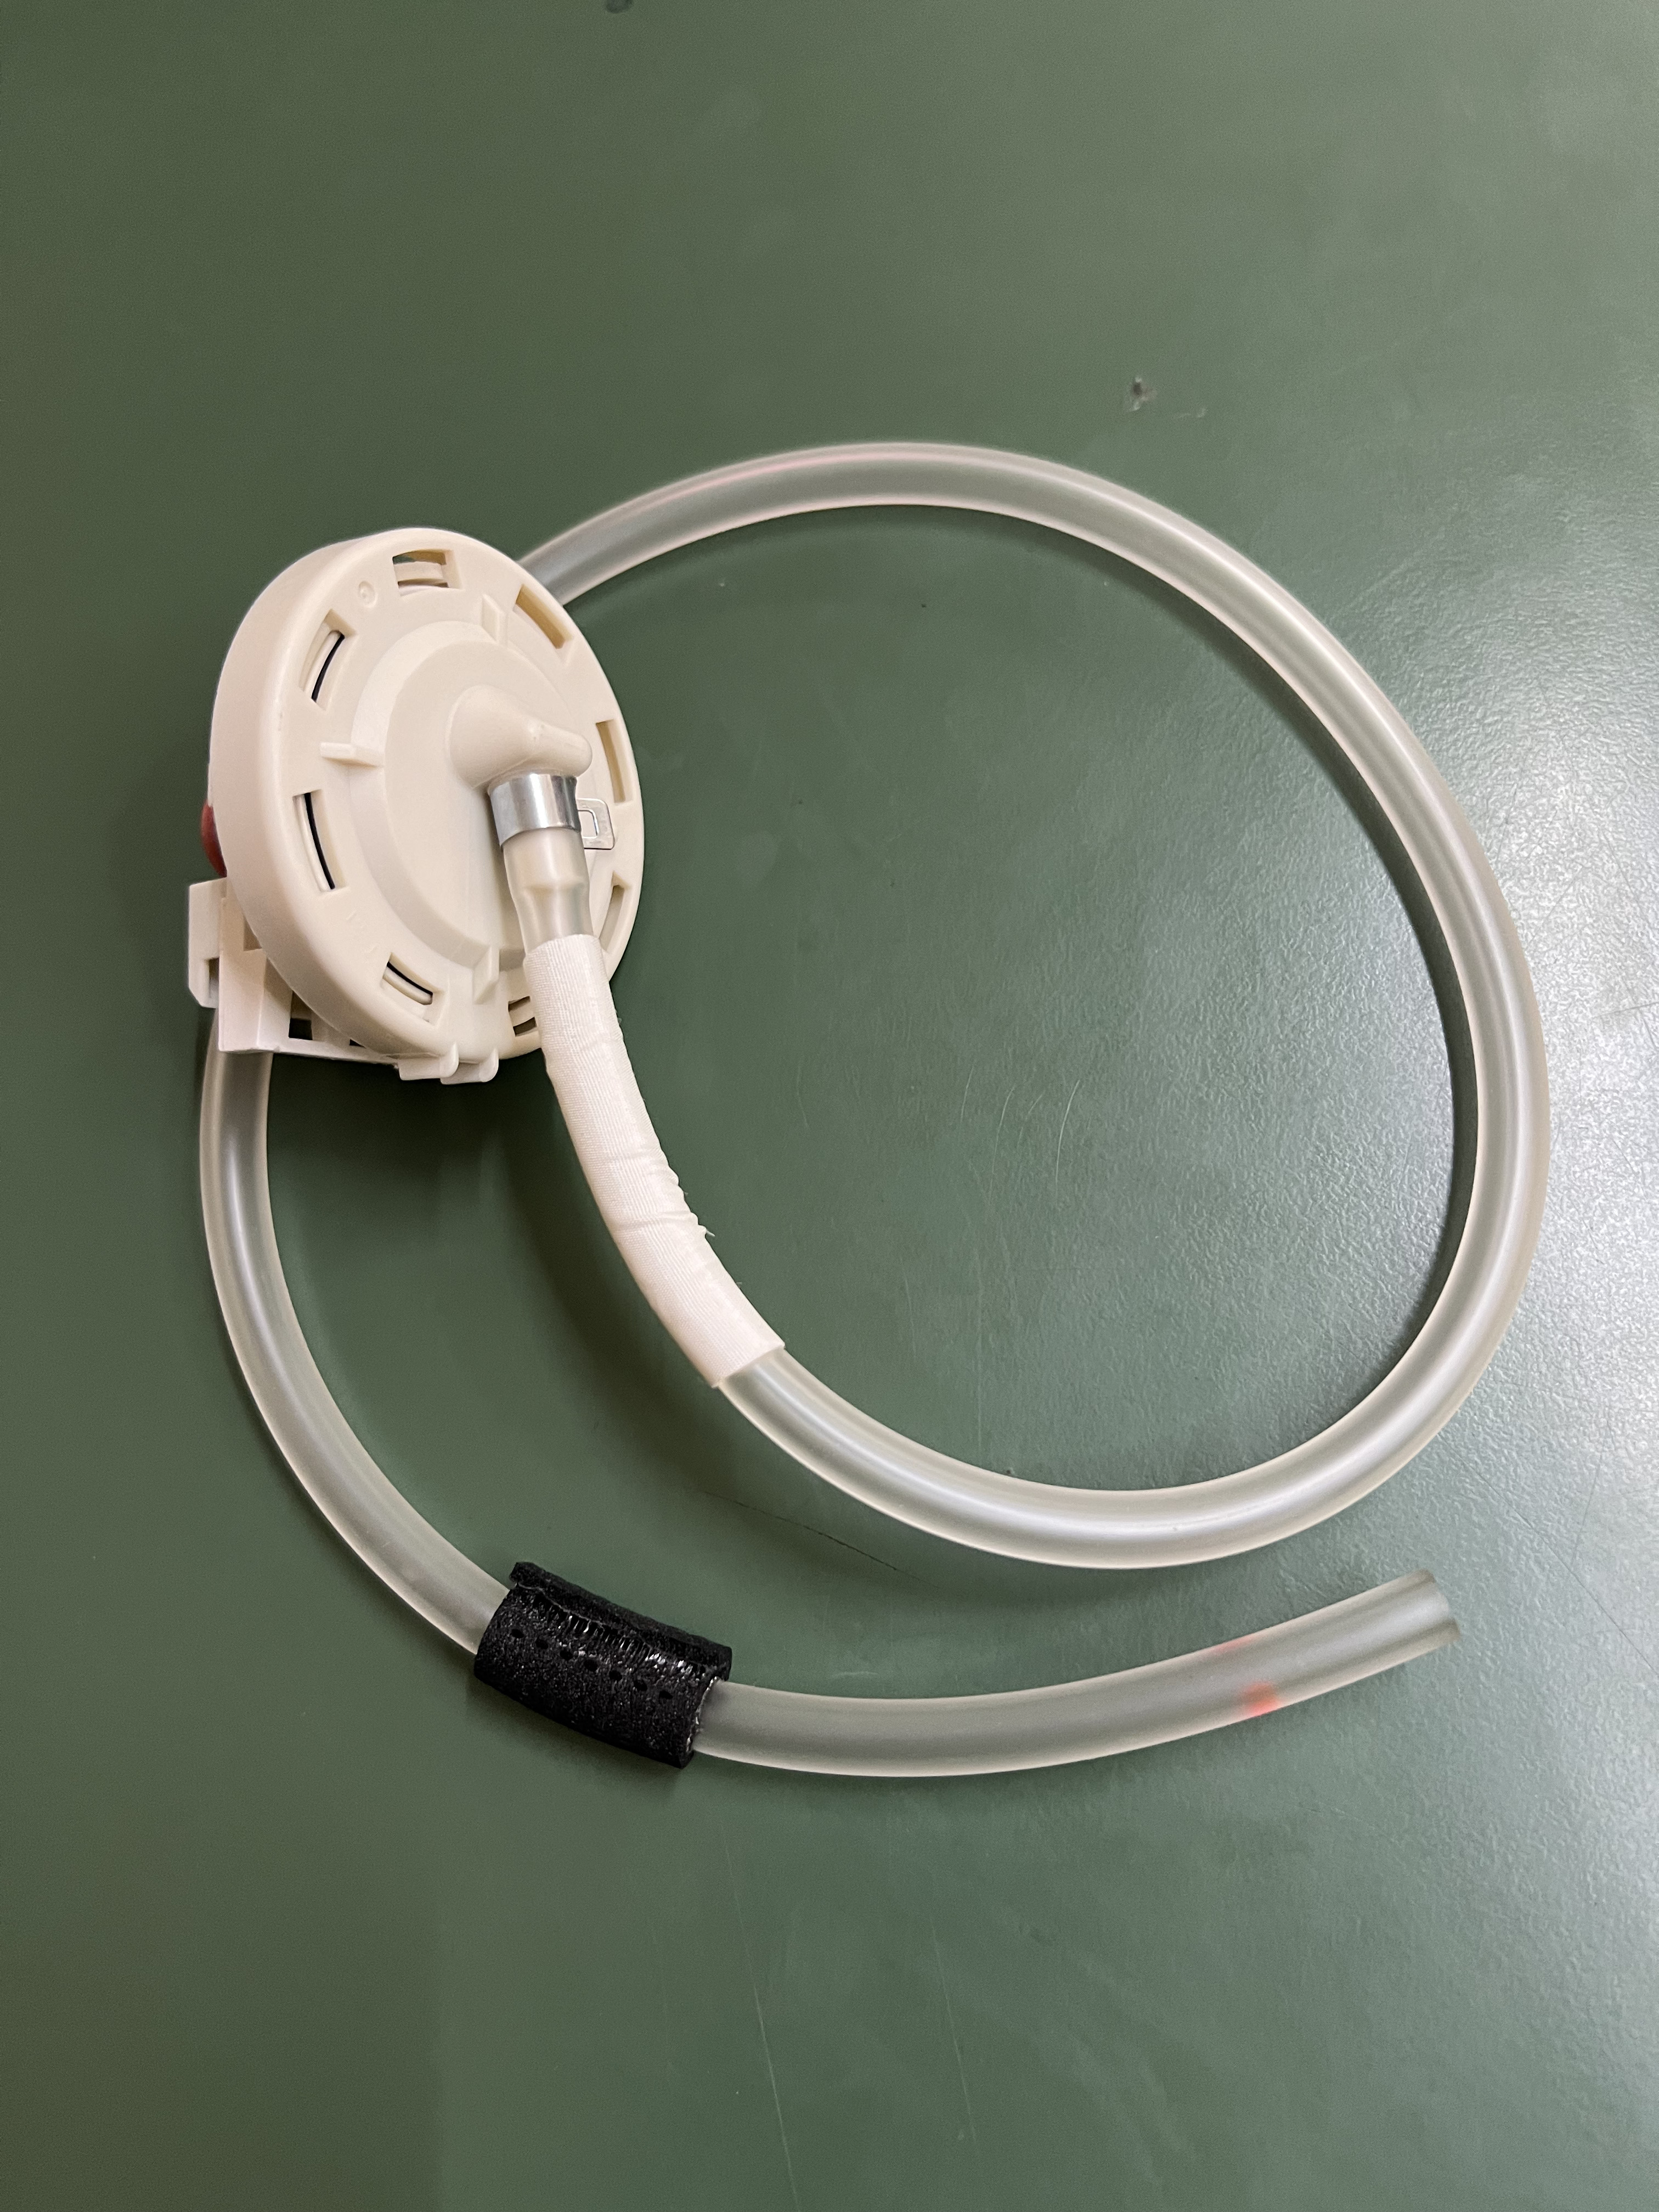pressure_sensor: (146, 543, 709, 1151)
